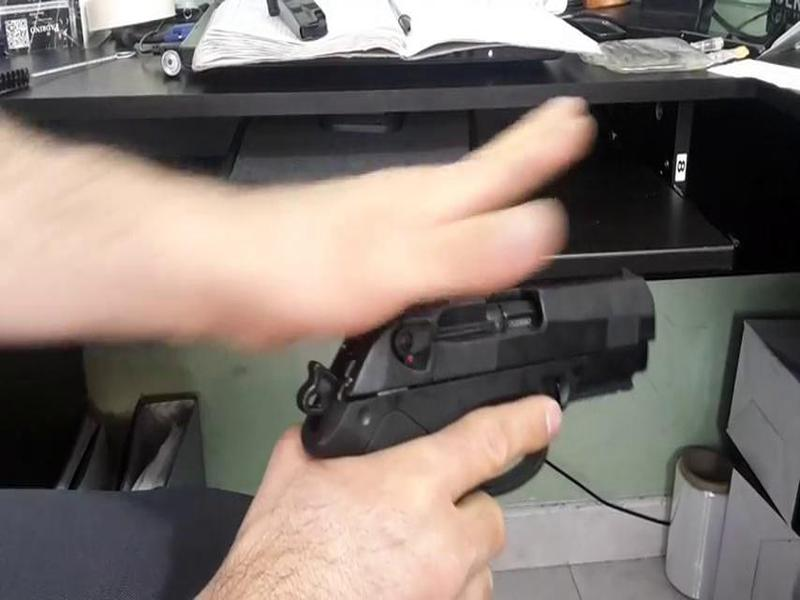Pistola: (291, 258, 674, 489)
